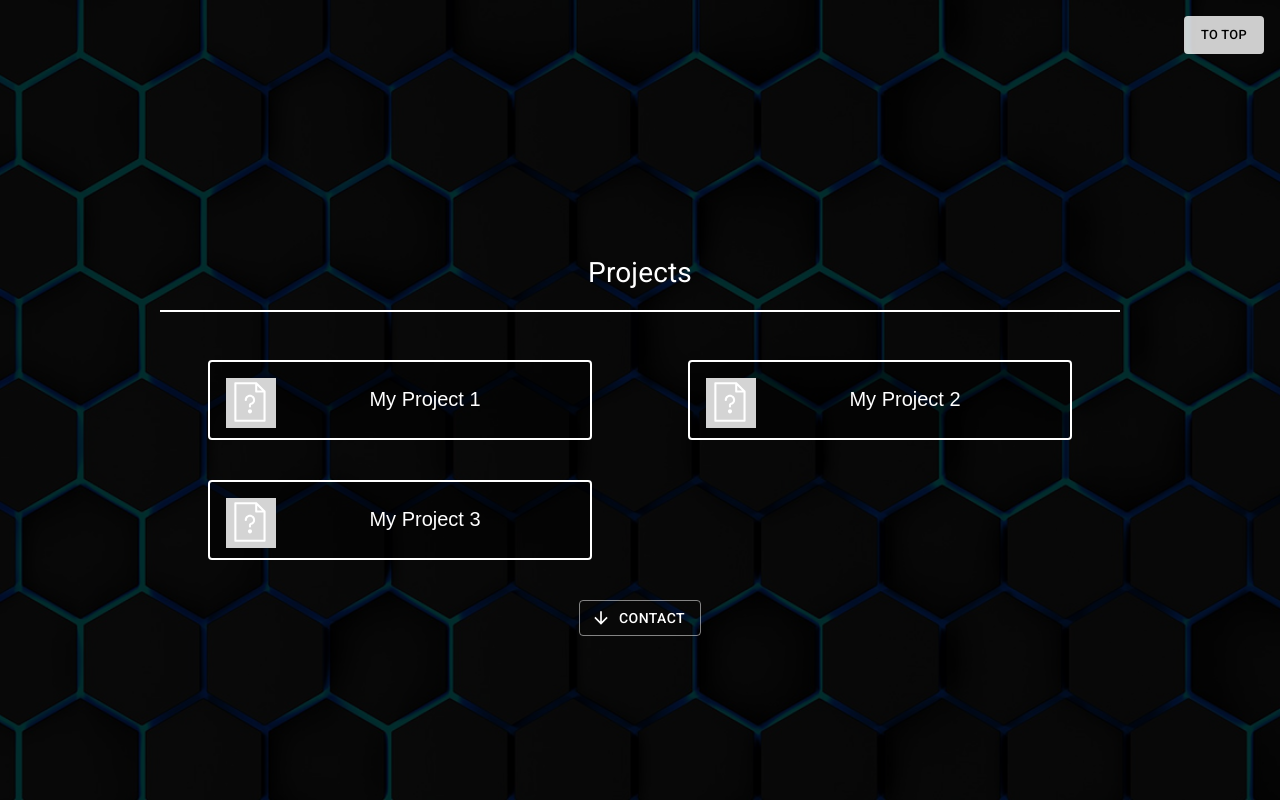
Test: Test the projects section › open the second project modal, open the first image and then close the image
(page scrolled)
Click the button with test id "project2-button".
click(880, 400)  # box [688,360,1072,440]
(page scrolled)
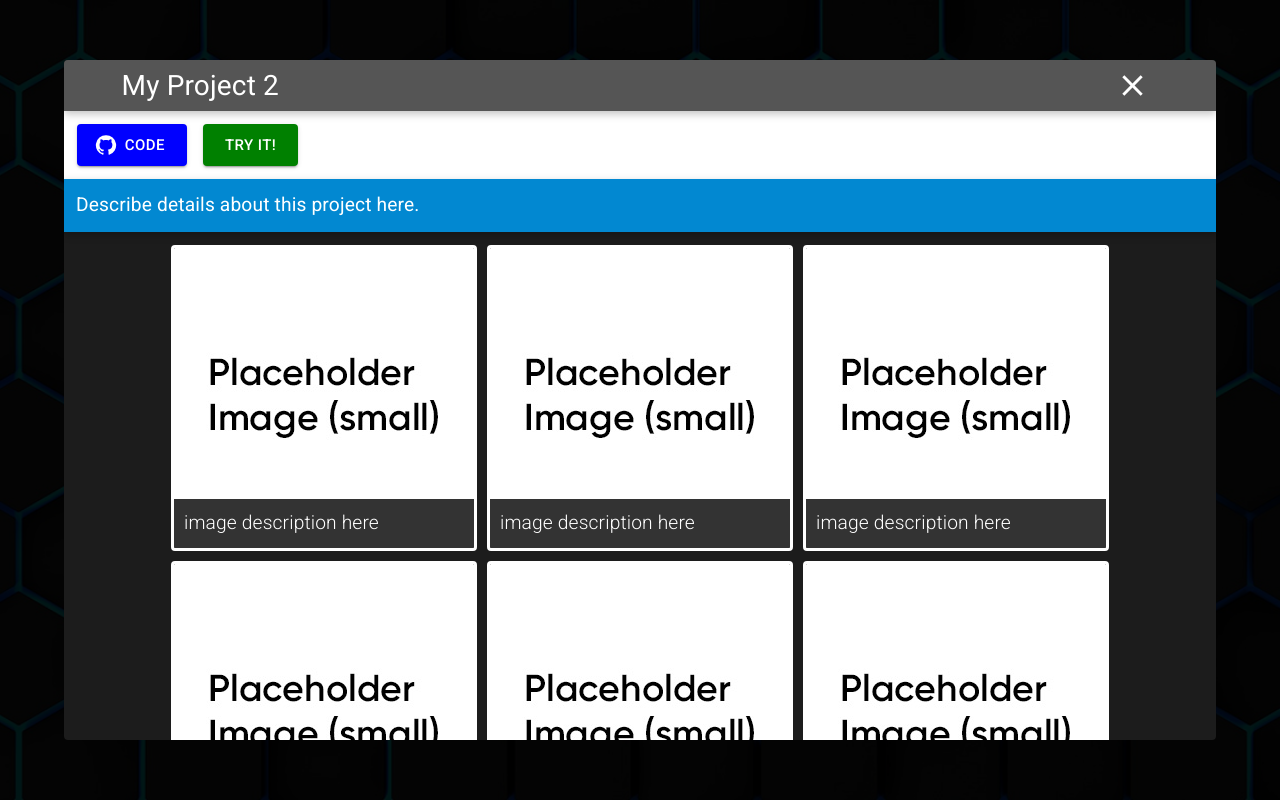
Click the element with test id "project-image-thumbnail-1".
click(324, 398)  # box [171,245,477,551]
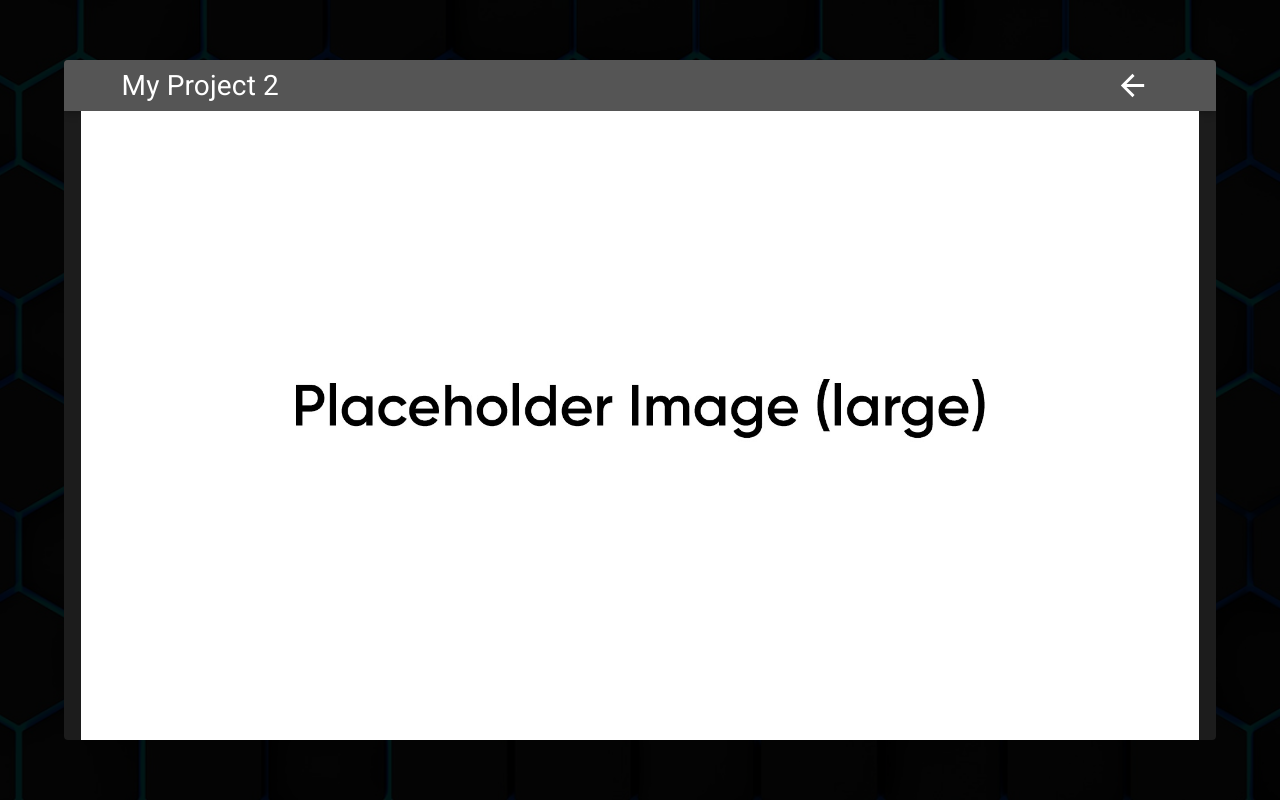
Result: the element with test id "large-image-viewer" is shown
Click the picture with test id "large-image".
click(640, 426)  # box [64,111,1216,740]
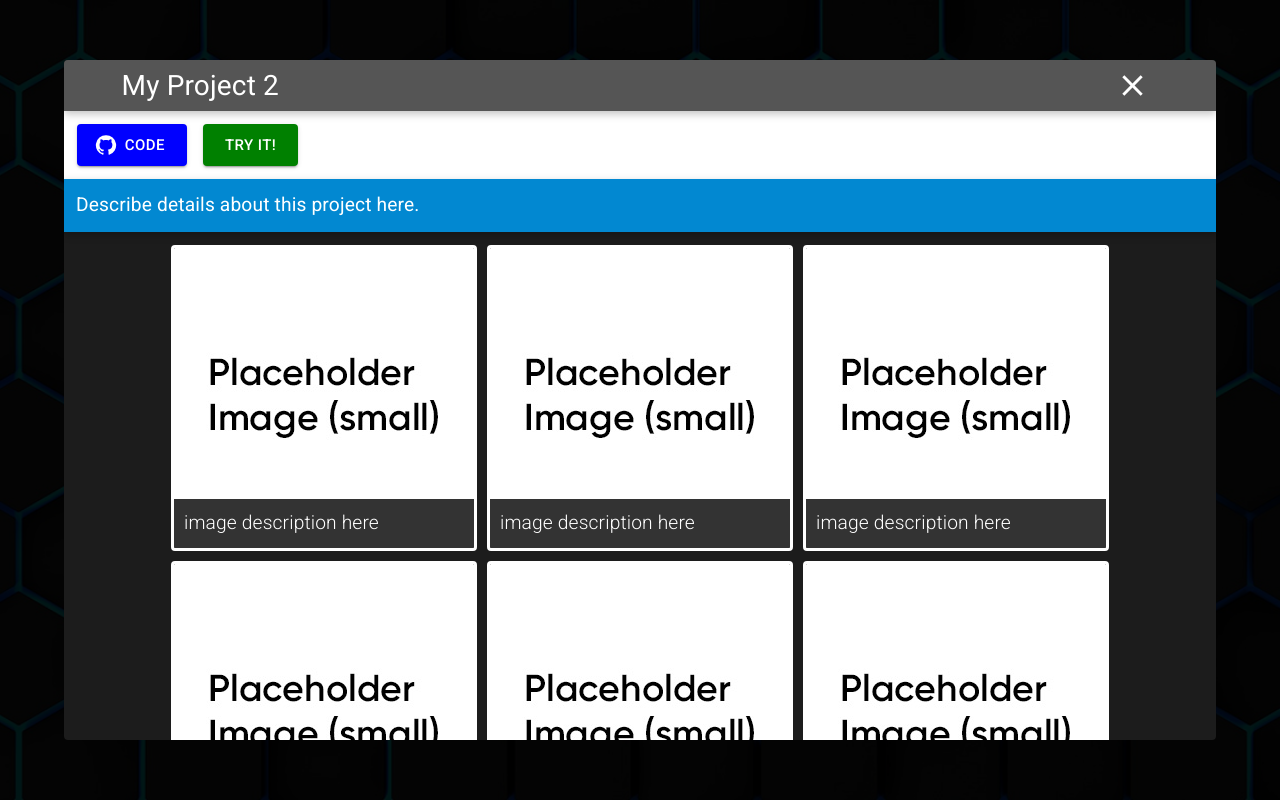
Result: the element with test id "large-image-viewer" is gone
